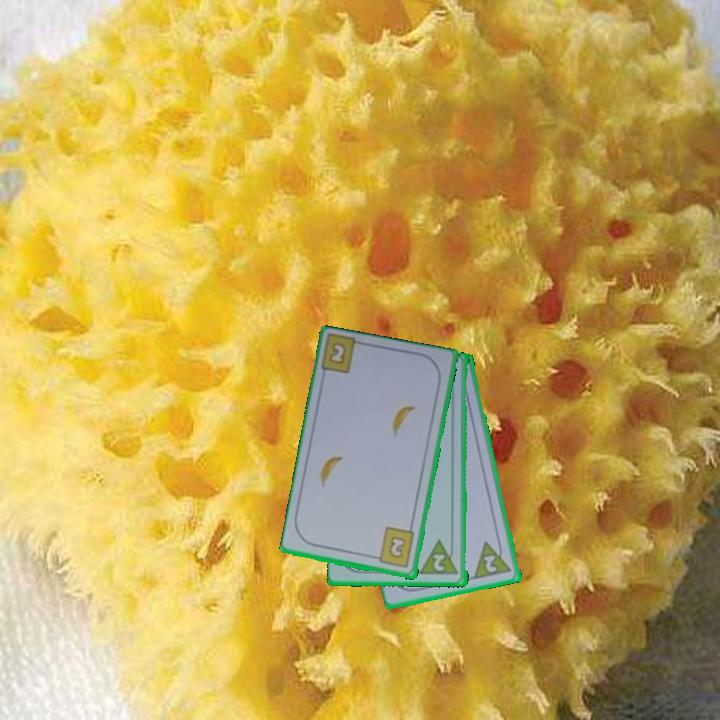2b: (370, 524, 417, 571), (326, 339, 349, 367)
2p: (471, 536, 515, 582), (418, 537, 461, 578)
